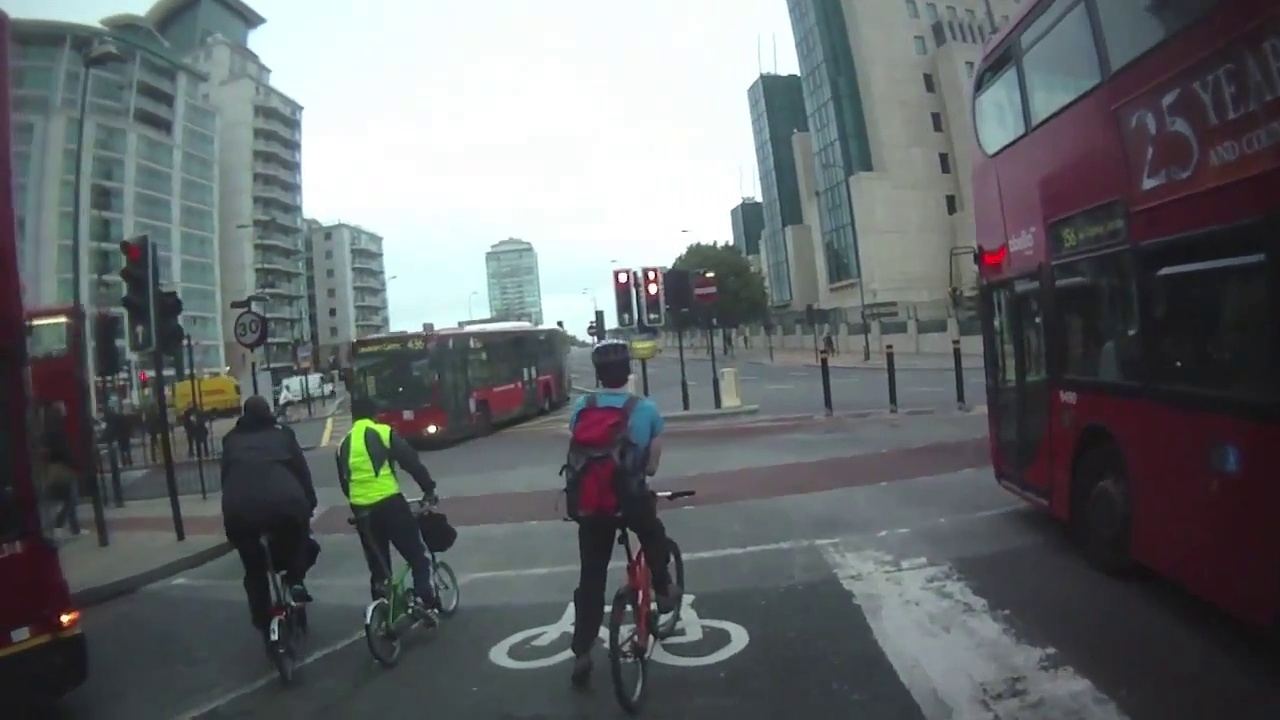cyclist_back: (560, 336, 704, 709), (326, 398, 480, 670), (209, 378, 329, 694)
